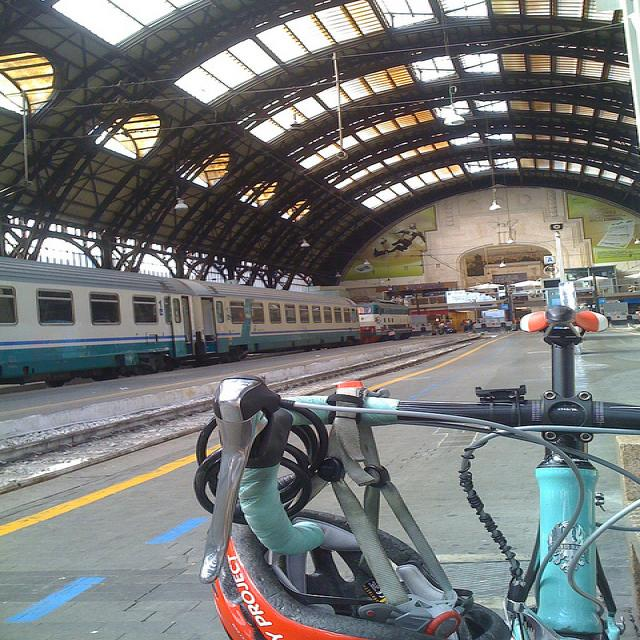motor: (438, 327, 453, 335)
